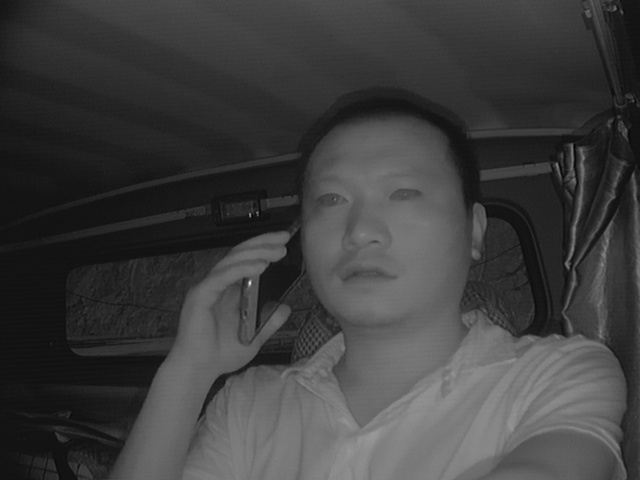hand: (184, 229, 282, 366)
